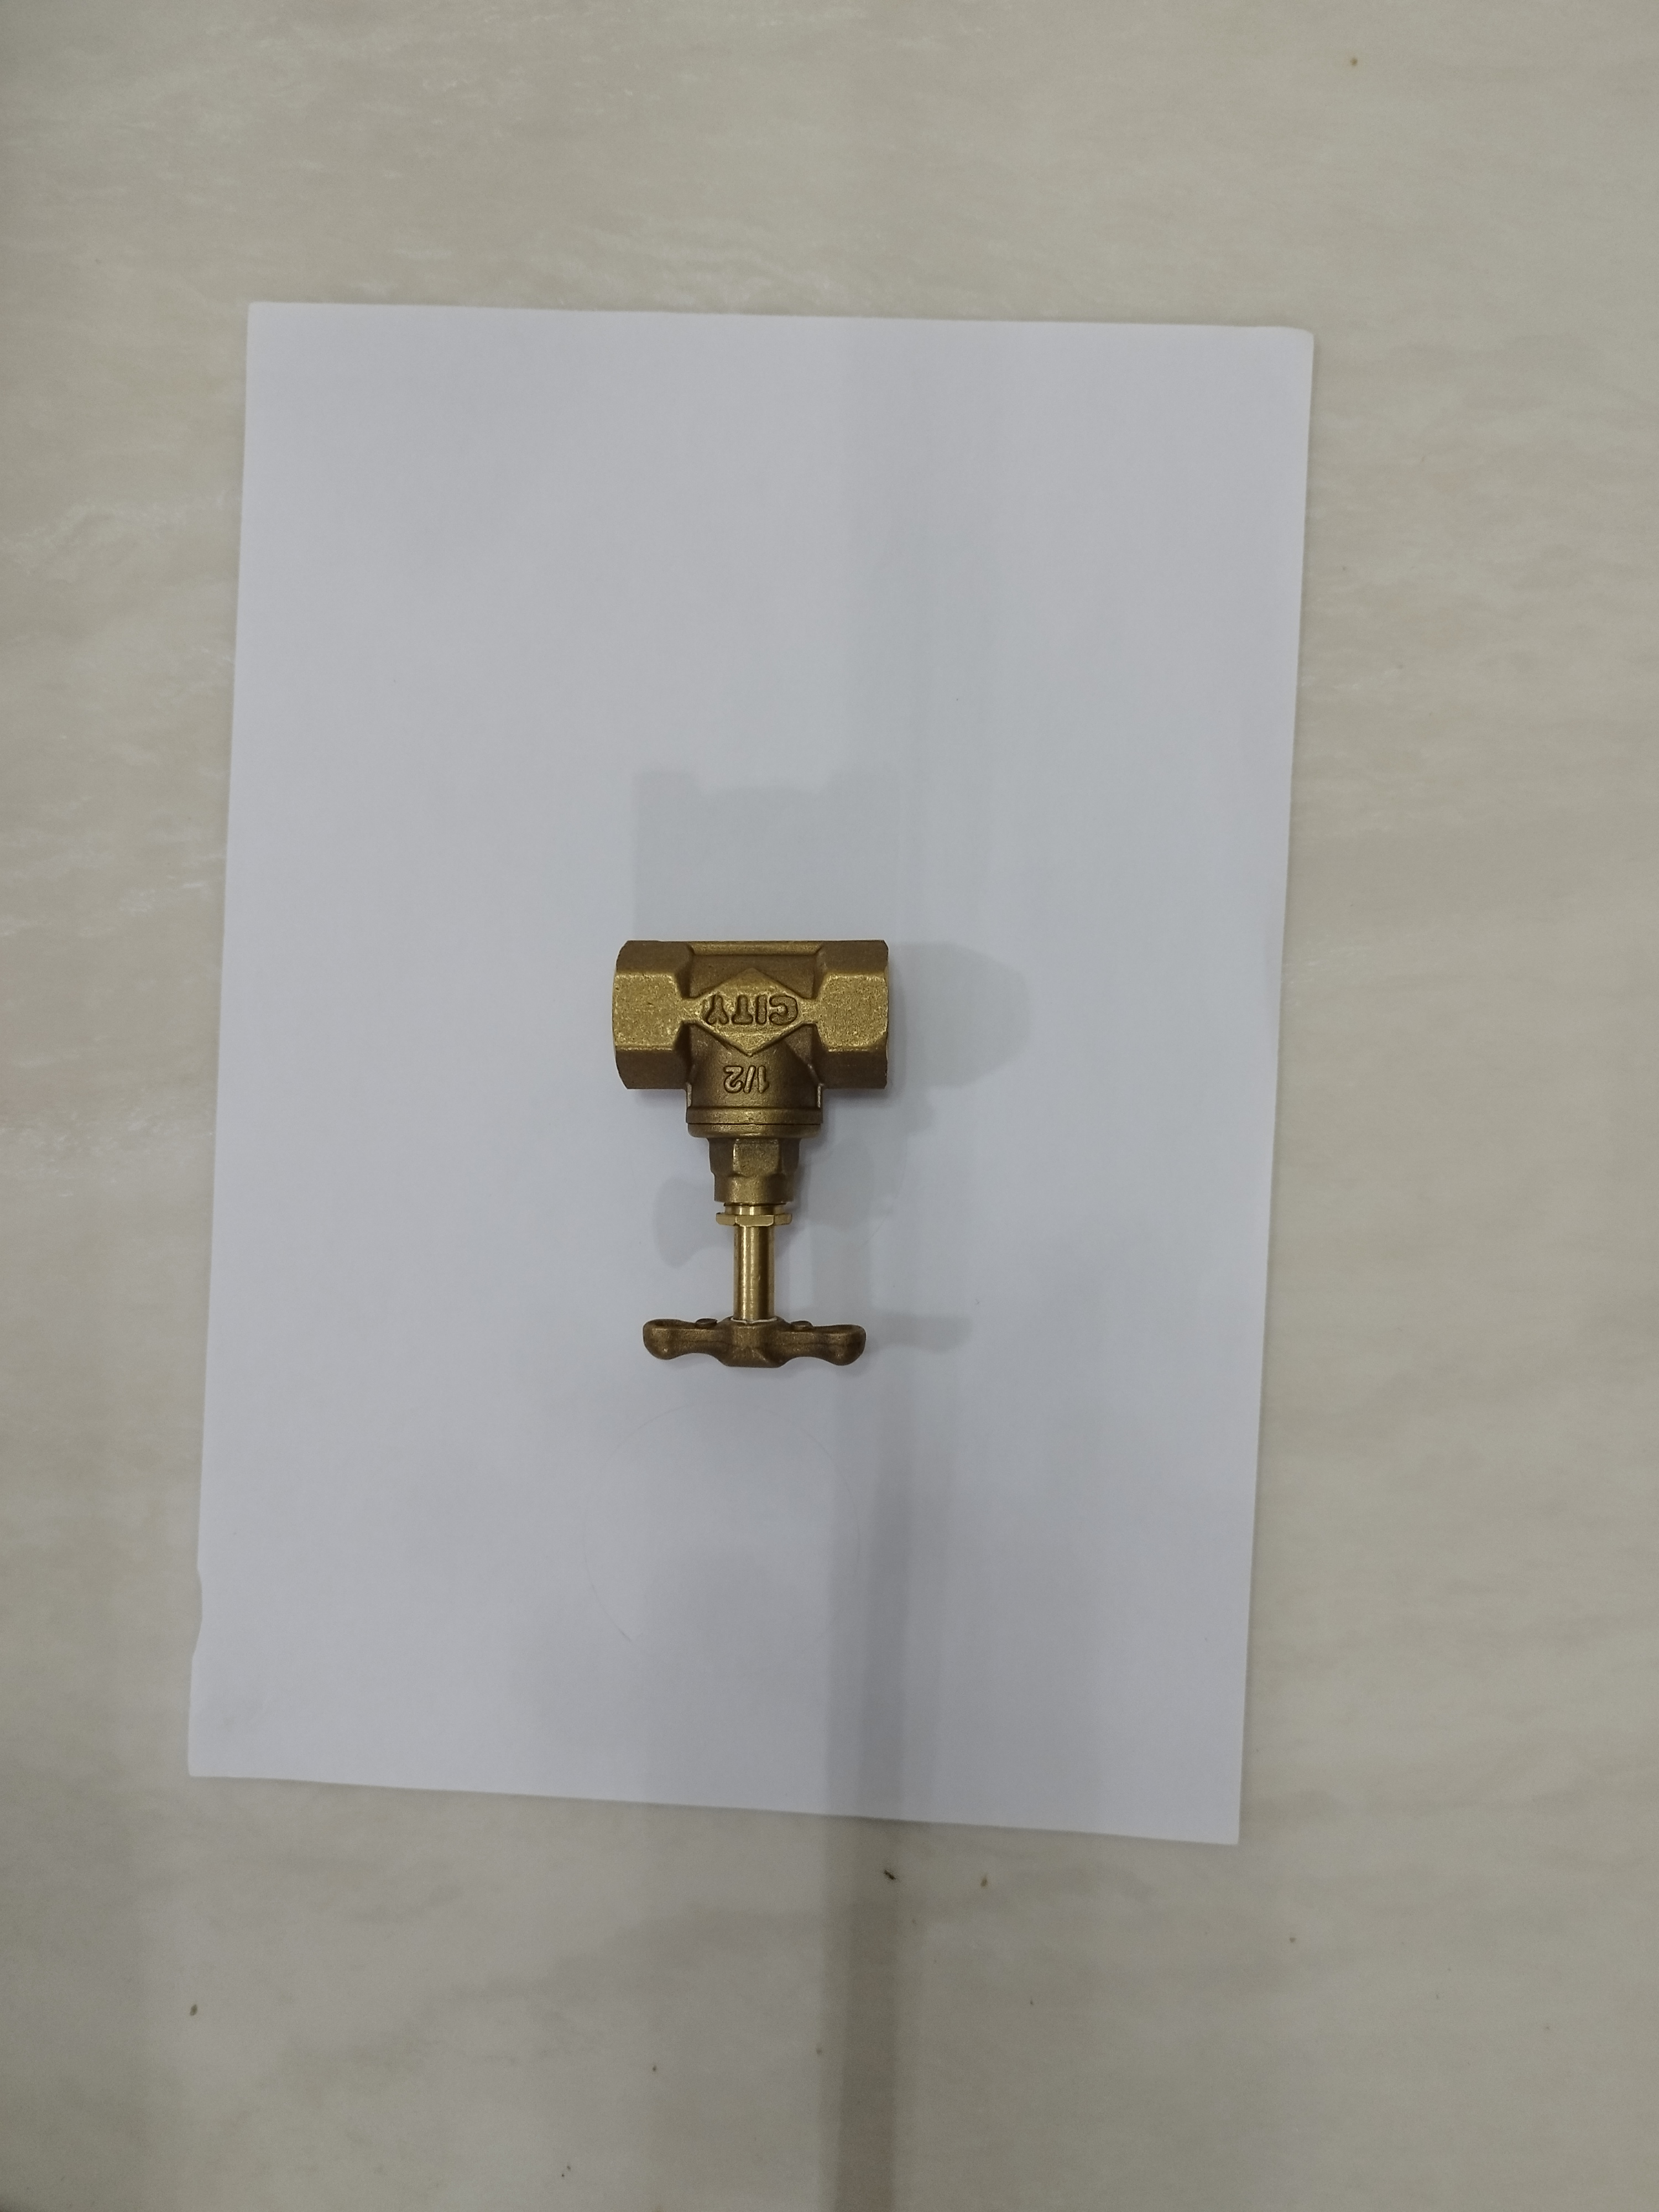brass_gate_valve: (598, 930, 906, 1390)
